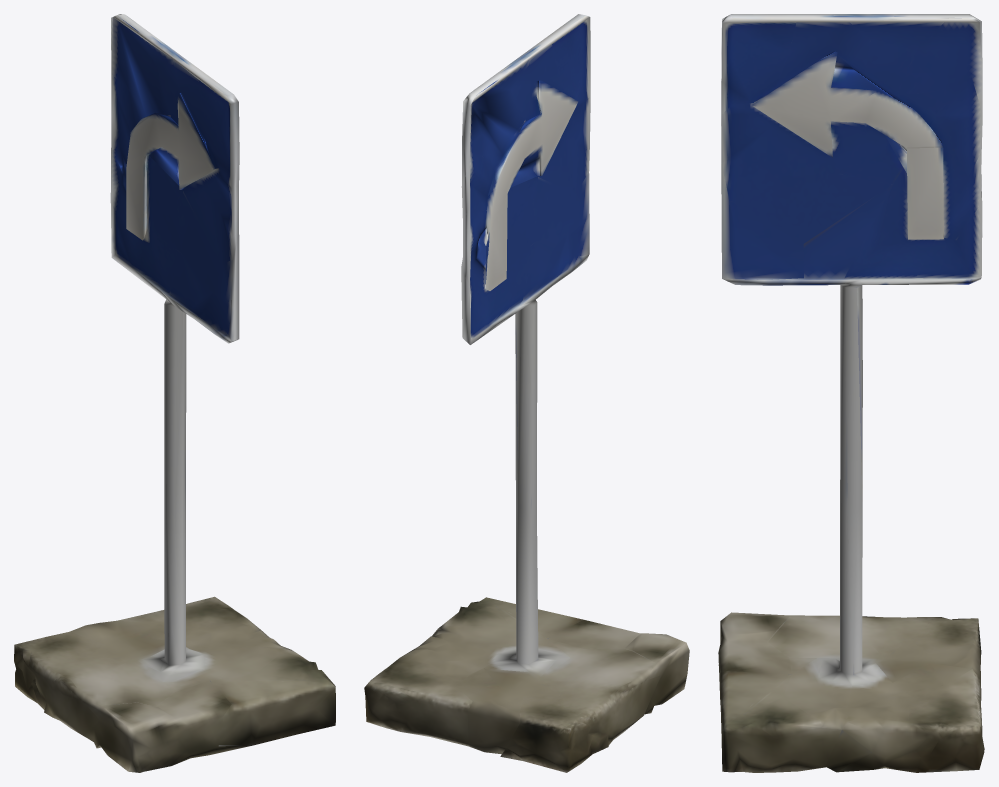
Rendered from rambu_kiri.glb.
3 views of the same model, side by side, from view 1: azimuth 30°, elevation 25°; view 2: azimuth 150°, elevation 25°; view 3: azimuth 270°, elevation 25° (orthographic). The views are drawn at different scales.
Visible parts, largest first — view 1: tripo_node_52df4f7a; view 2: tripo_node_52df4f7a; view 3: tripo_node_52df4f7a.
Boxes of the visible parts, <box> form: tripo_node_52df4f7a: <box>14,14,335,772</box>; tripo_node_52df4f7a: <box>364,14,689,772</box>; tripo_node_52df4f7a: <box>718,14,984,772</box>.
Bounding box in the file's own units: 34.21 × 99.97 × 34.26.
Materials: 1 (1 with a texture image).
